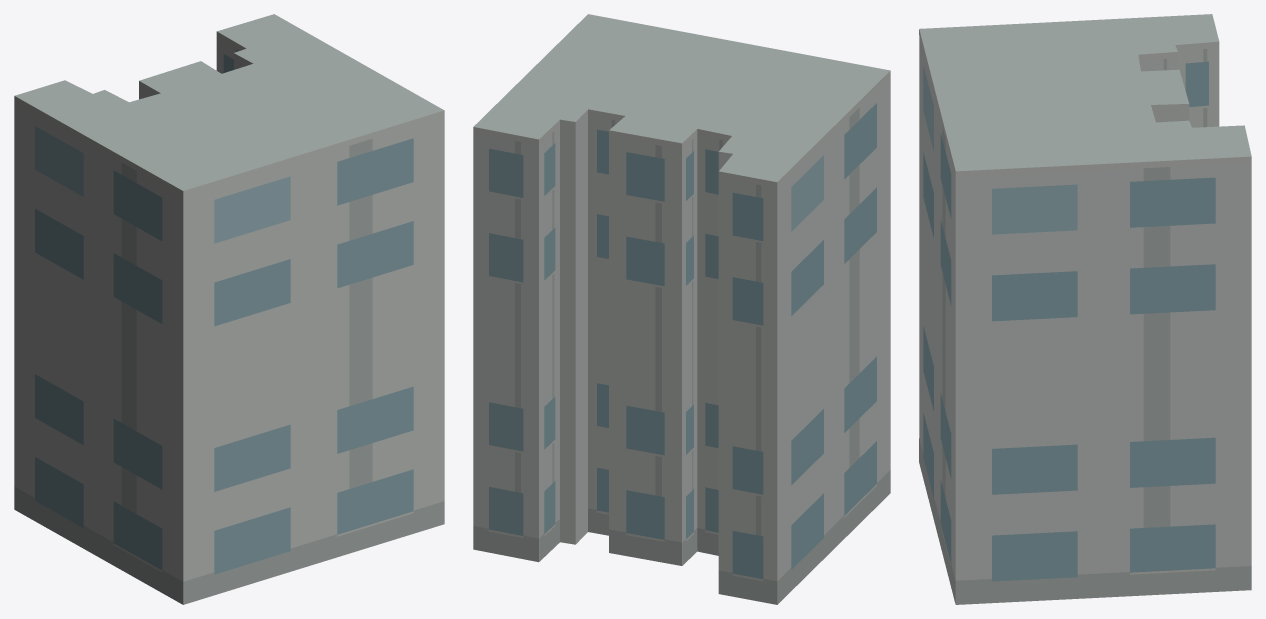
Rendered from survey-upis-32882695.glb.
3 views of the same model, side by side, from view 1: azimuth 30°, elevation 25°; view 2: azimuth 150°, elevation 25°; view 3: azimuth 270°, elevation 25° (orthographic). The views are drawn at different scales.
Parts seen in each view (by area): view 1: survey-upis-32882695.tmp; view 2: survey-upis-32882695.tmp; view 3: survey-upis-32882695.tmp.
Part boxes in pixels (left/top/right/bottom): survey-upis-32882695.tmp: left=14, top=14, right=444, bottom=604; survey-upis-32882695.tmp: left=473, top=14, right=890, bottom=604; survey-upis-32882695.tmp: left=919, top=14, right=1251, bottom=604.
Size of the model in its own units: 12.97 by 16.65 by 11.58.
